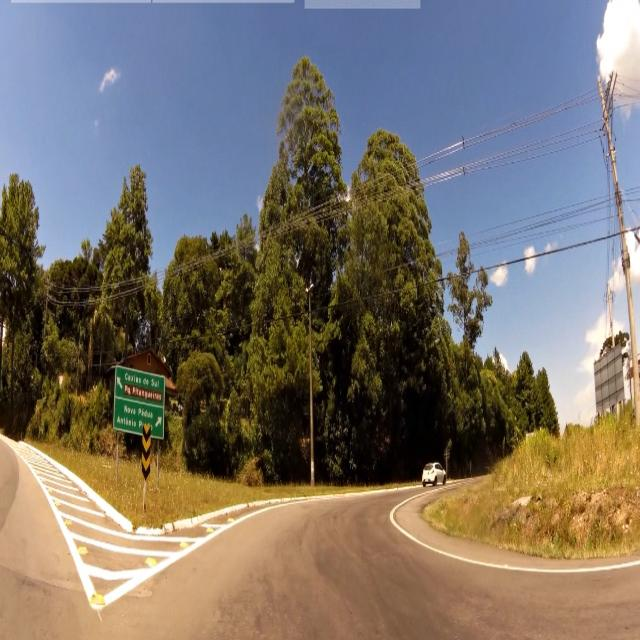MP: (142, 424, 152, 480)
